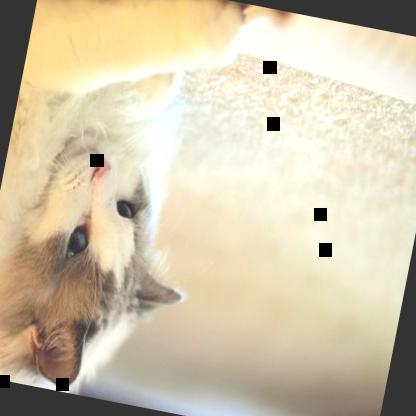cat: (0, 0, 250, 413)
